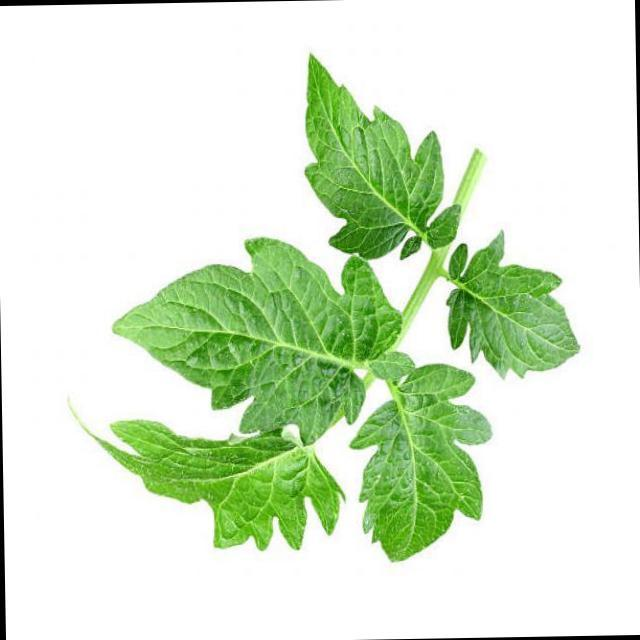Healthy Leaf: (107, 210, 405, 450), (82, 382, 367, 599), (286, 39, 462, 294), (340, 336, 488, 598), (440, 219, 591, 386)
